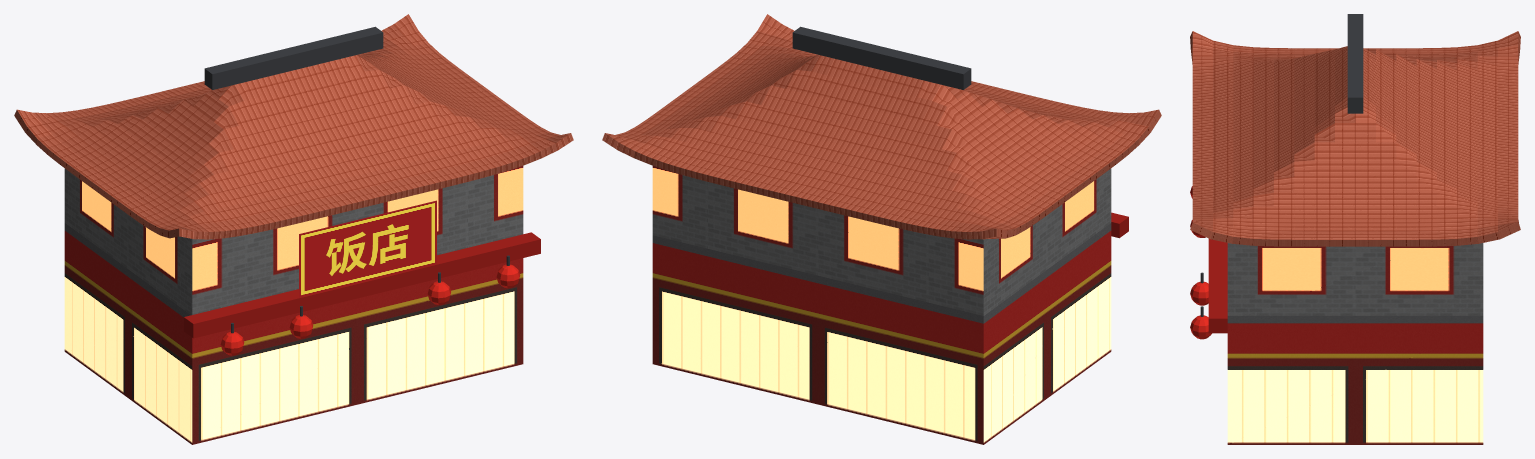
File: chn_shop_b.glb
The picture shows the model from 3 angles, left to right: view 1: azimuth 30°, elevation 25°; view 2: azimuth 150°, elevation 25°; view 3: azimuth 270°, elevation 25°; orthographic projection.
Parts seen in each view (by area): view 1: croof; view 2: croof; view 3: croof.
Part boxes in pixels (bbox=[...]): croof: bbox=[14, 14, 573, 444]; croof: bbox=[602, 14, 1161, 444]; croof: bbox=[1190, 14, 1520, 444].
Size of the model in its own units: 14.3 by 10.65 by 10.36.
7 materials, 4 textured.
